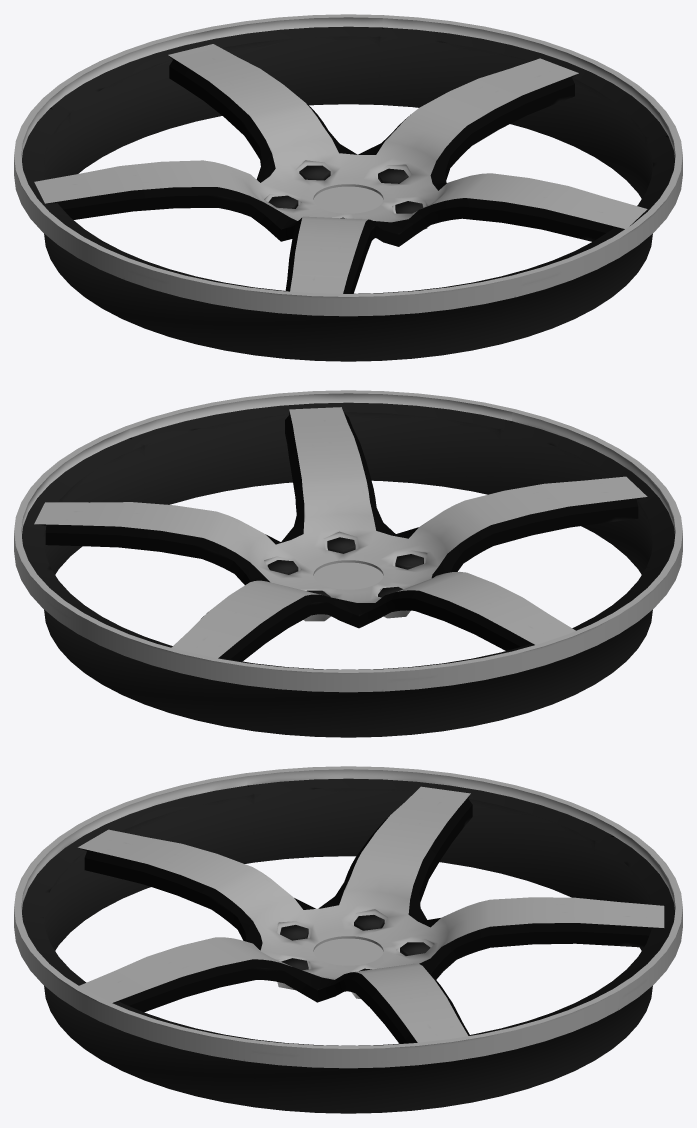
Rendered from vossen1x1.fbx.
3 views of the same model, one above another, from view 1: azimuth 30°, elevation 25°; view 2: azimuth 150°, elevation 25°; view 3: azimuth 270°, elevation 25° (orthographic).
Parts seen in each view (by area): view 1: vossen; view 2: vossen; view 3: vossen.
Boxes of the visible parts, <box> form: vossen: <box>14,14,682,361</box>; vossen: <box>14,390,682,737</box>; vossen: <box>14,766,682,1113</box>.
Bounding box in the file's own units: 10000 × 1275 × 10000.
